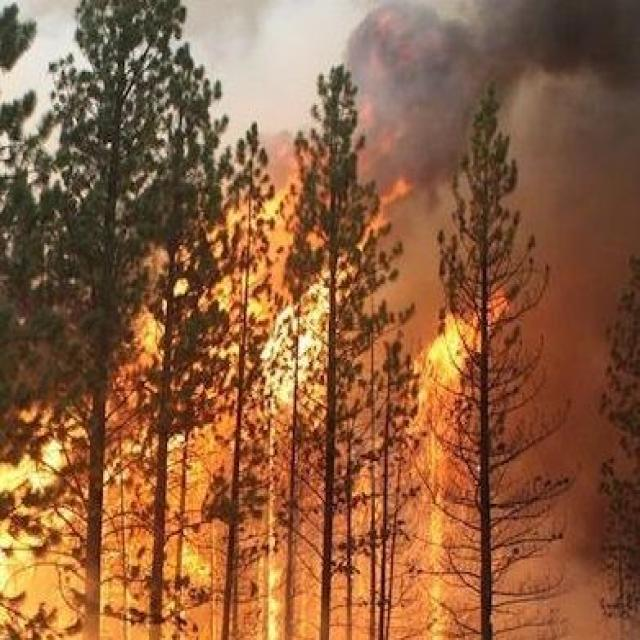Fire: (98, 420, 475, 640), (100, 184, 387, 415), (0, 404, 101, 640), (411, 298, 503, 408)
Smoke: (350, 0, 640, 169), (510, 180, 640, 522), (403, 190, 475, 286)
